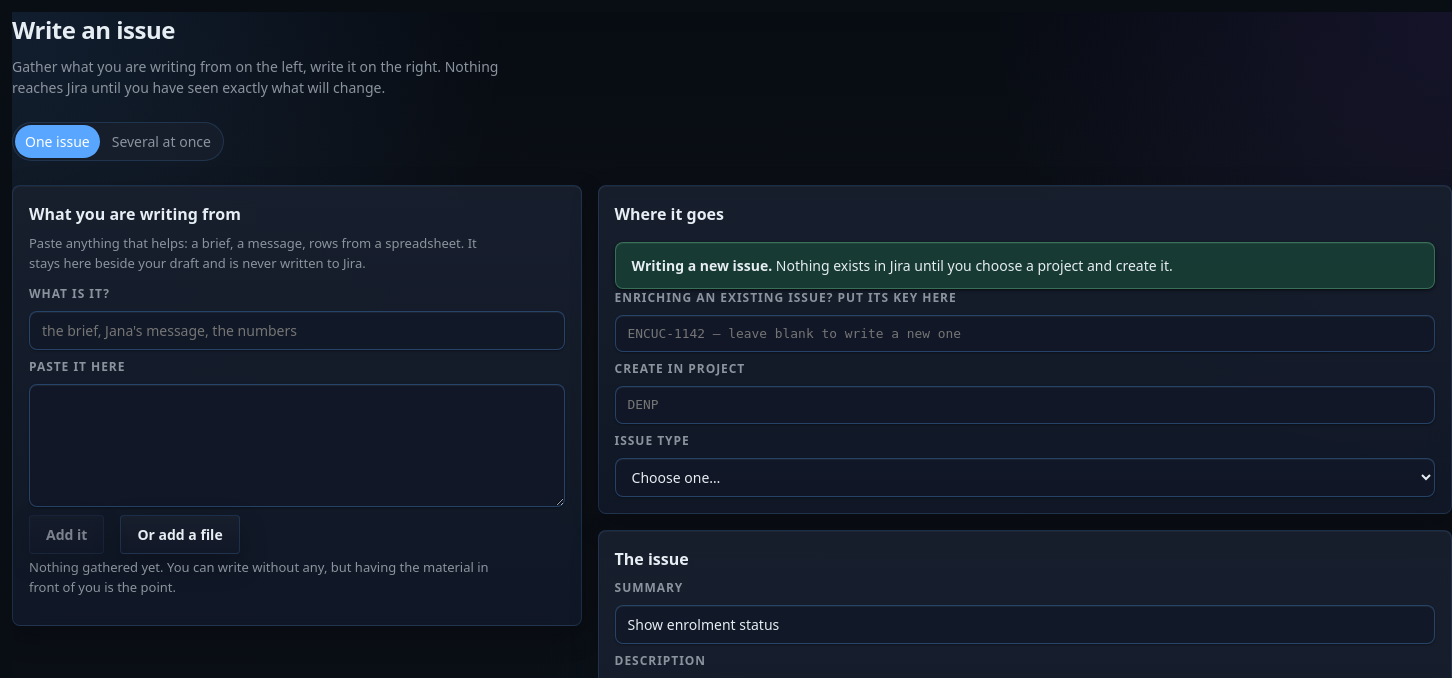
gathering material › keeps a pasted source with the label it was given
The image size is (1452, 678).
Type "the brief" into the field labelled "What is it?" at point(297, 330), box [29,311,565,350]
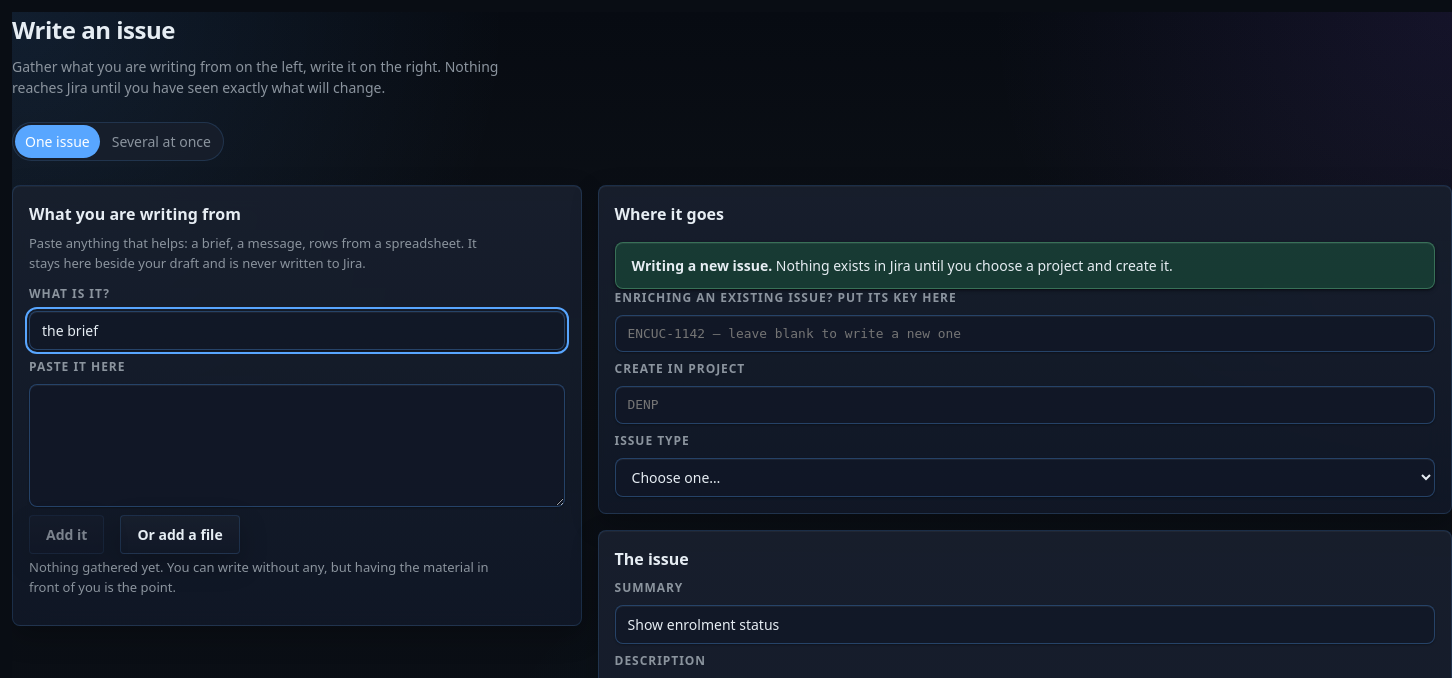
Type "Members cannot see it." into the text box labelled "Paste it here" at point(297, 446), box [29,384,565,507]
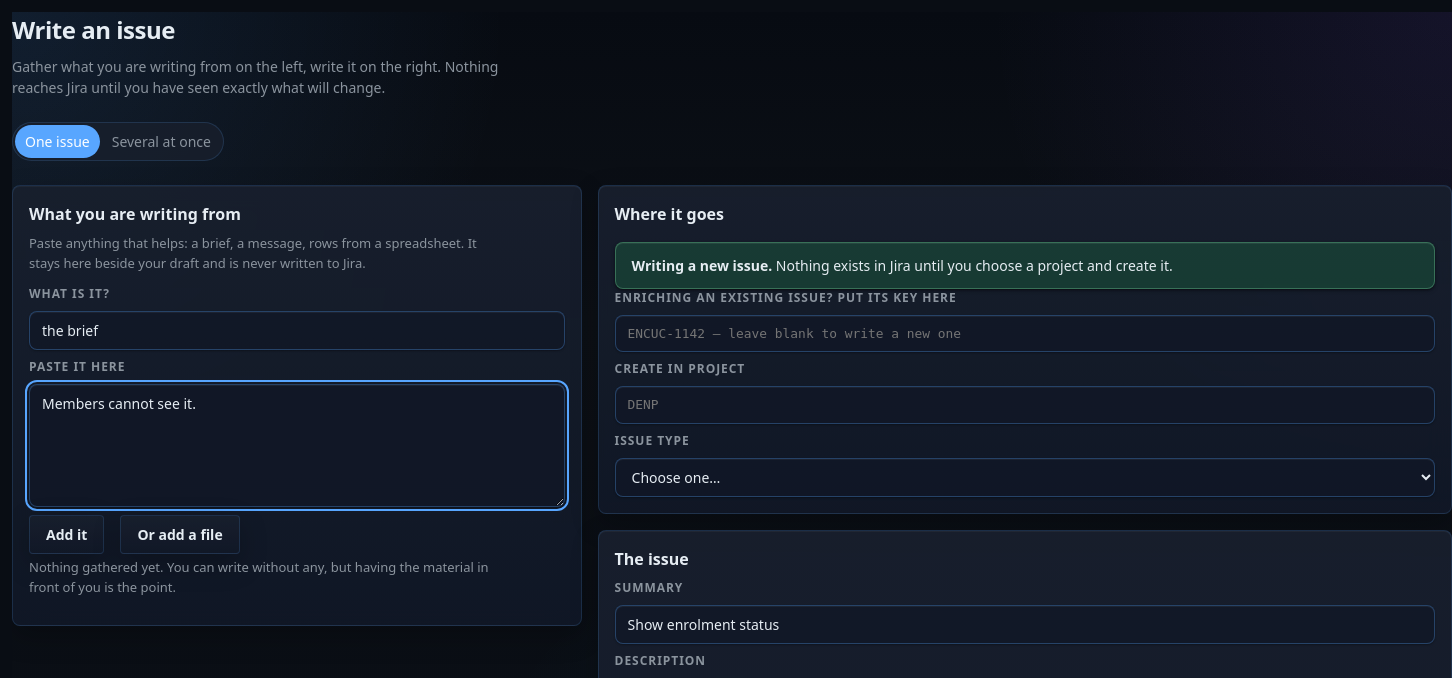
Click the button "Add it" at point(67, 534), box [29,515,104,554]
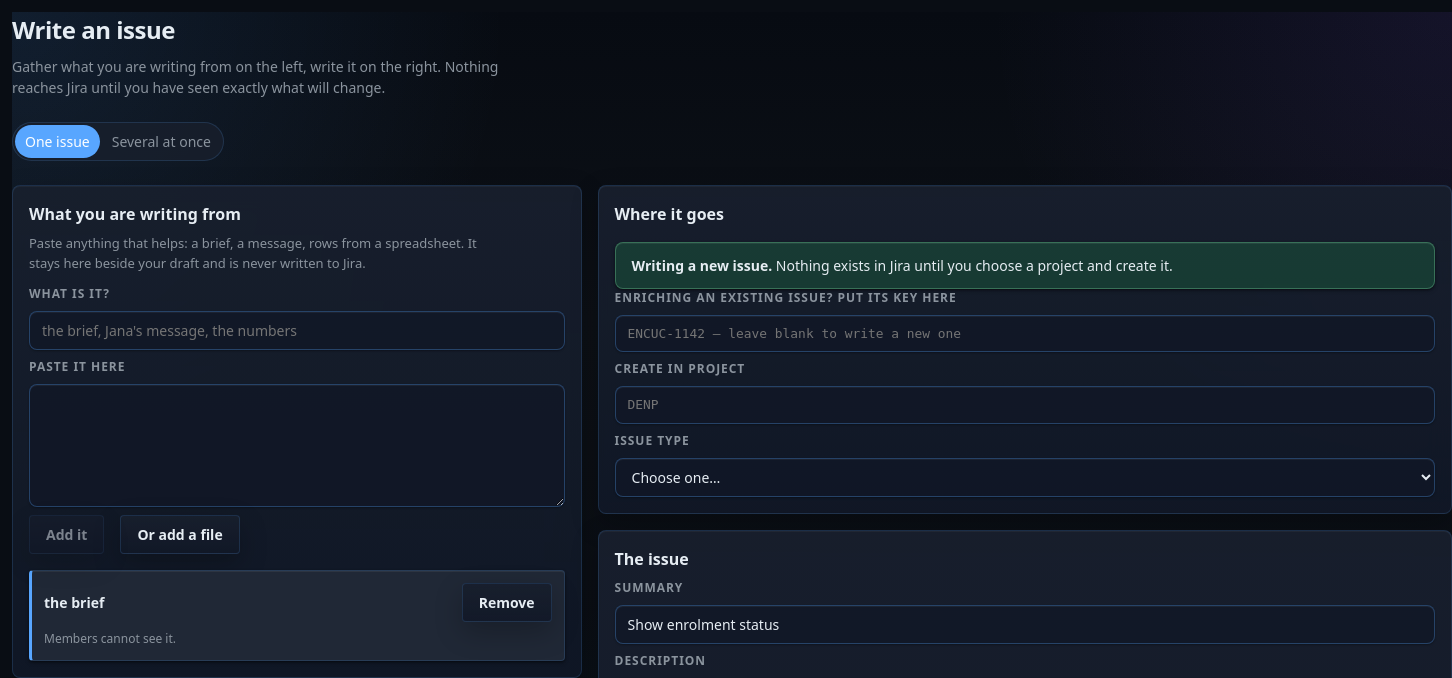
Now the text "the brief" is shown, box [44,592,104,613]
Now the text "Members cannot see it." is shown, box [44,630,176,647]
